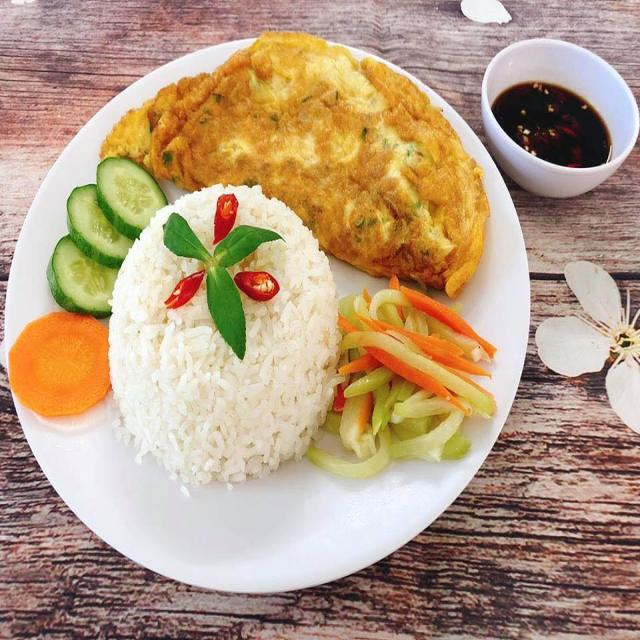ca rot: (401, 289, 496, 358), (363, 346, 451, 398), (407, 332, 489, 374)
com: (109, 280, 288, 486), (241, 296, 342, 465)
dua leo: (47, 158, 167, 317)
nuoc tuong: (492, 83, 609, 167)
ot: (165, 269, 206, 309), (233, 271, 279, 301), (213, 194, 238, 244)
rau: (308, 367, 475, 478)
rau ngo: (163, 213, 282, 359)
trung chien: (101, 33, 489, 296)
